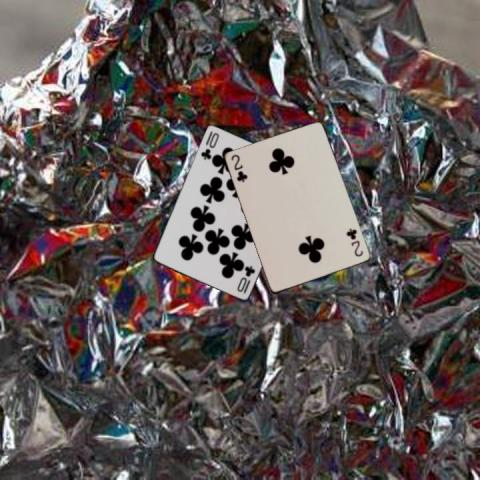10c: (198, 128, 221, 161), (234, 262, 257, 294)
2c: (343, 225, 365, 258), (228, 152, 248, 184)
